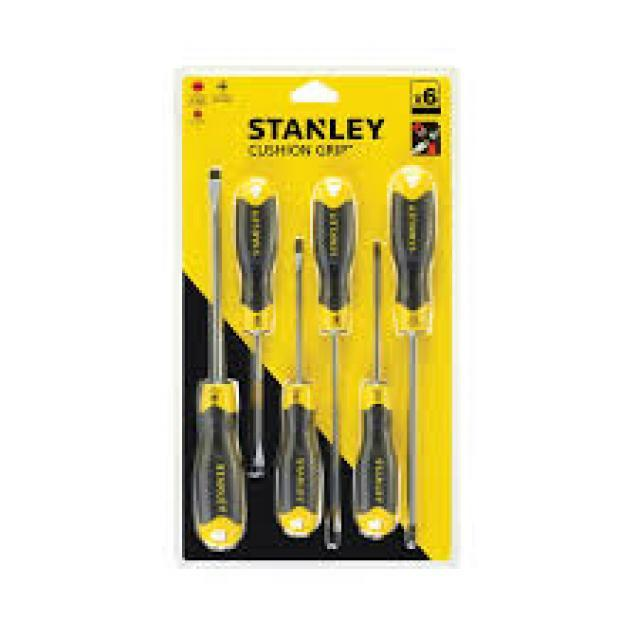screwdriver: (184, 163, 250, 559), (304, 175, 362, 548), (386, 162, 440, 549), (270, 230, 327, 552), (348, 238, 402, 550), (233, 175, 282, 490)
